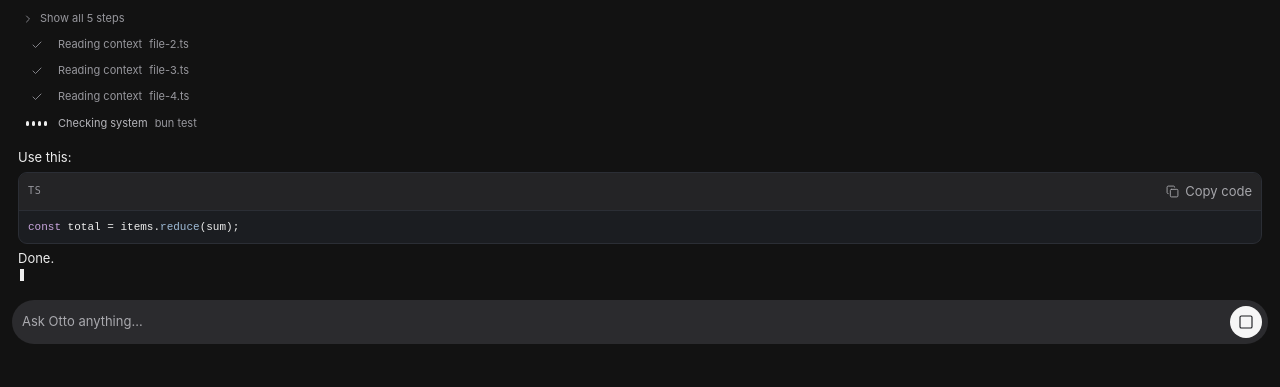
Test: Agent activity trail › expands hidden earlier steps when more than four steps occur while active
The width and height of the screenshot is (1280, 387).
Expected: the text "file-1.ts" is not shown
Expected: the text "bun test" is shown, [155, 116, 197, 131]
Click the button "Show all 5 steps". click: (73, 19)
box: [18, 7, 128, 31]
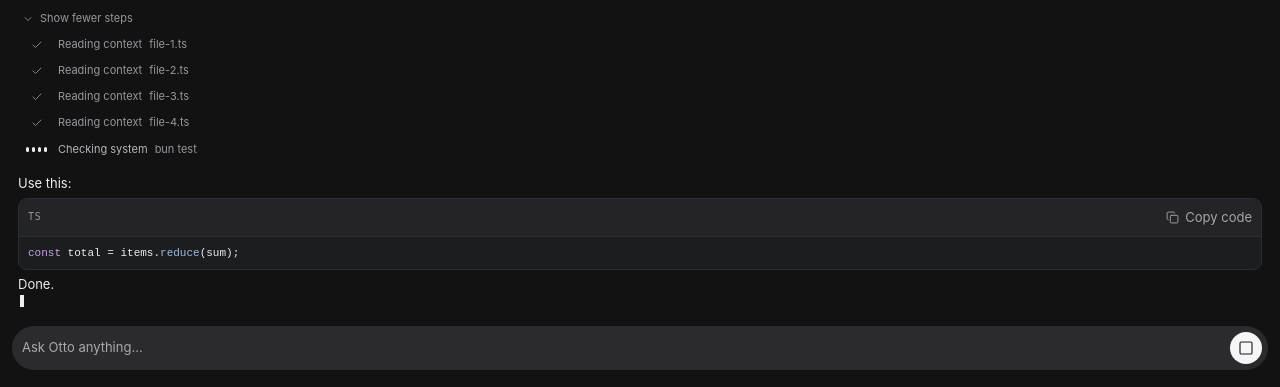
Result: the text "file-1.ts" is shown at [149, 37, 187, 53]
Result: the button "Show fewer steps" is shown at [18, 7, 137, 31]
